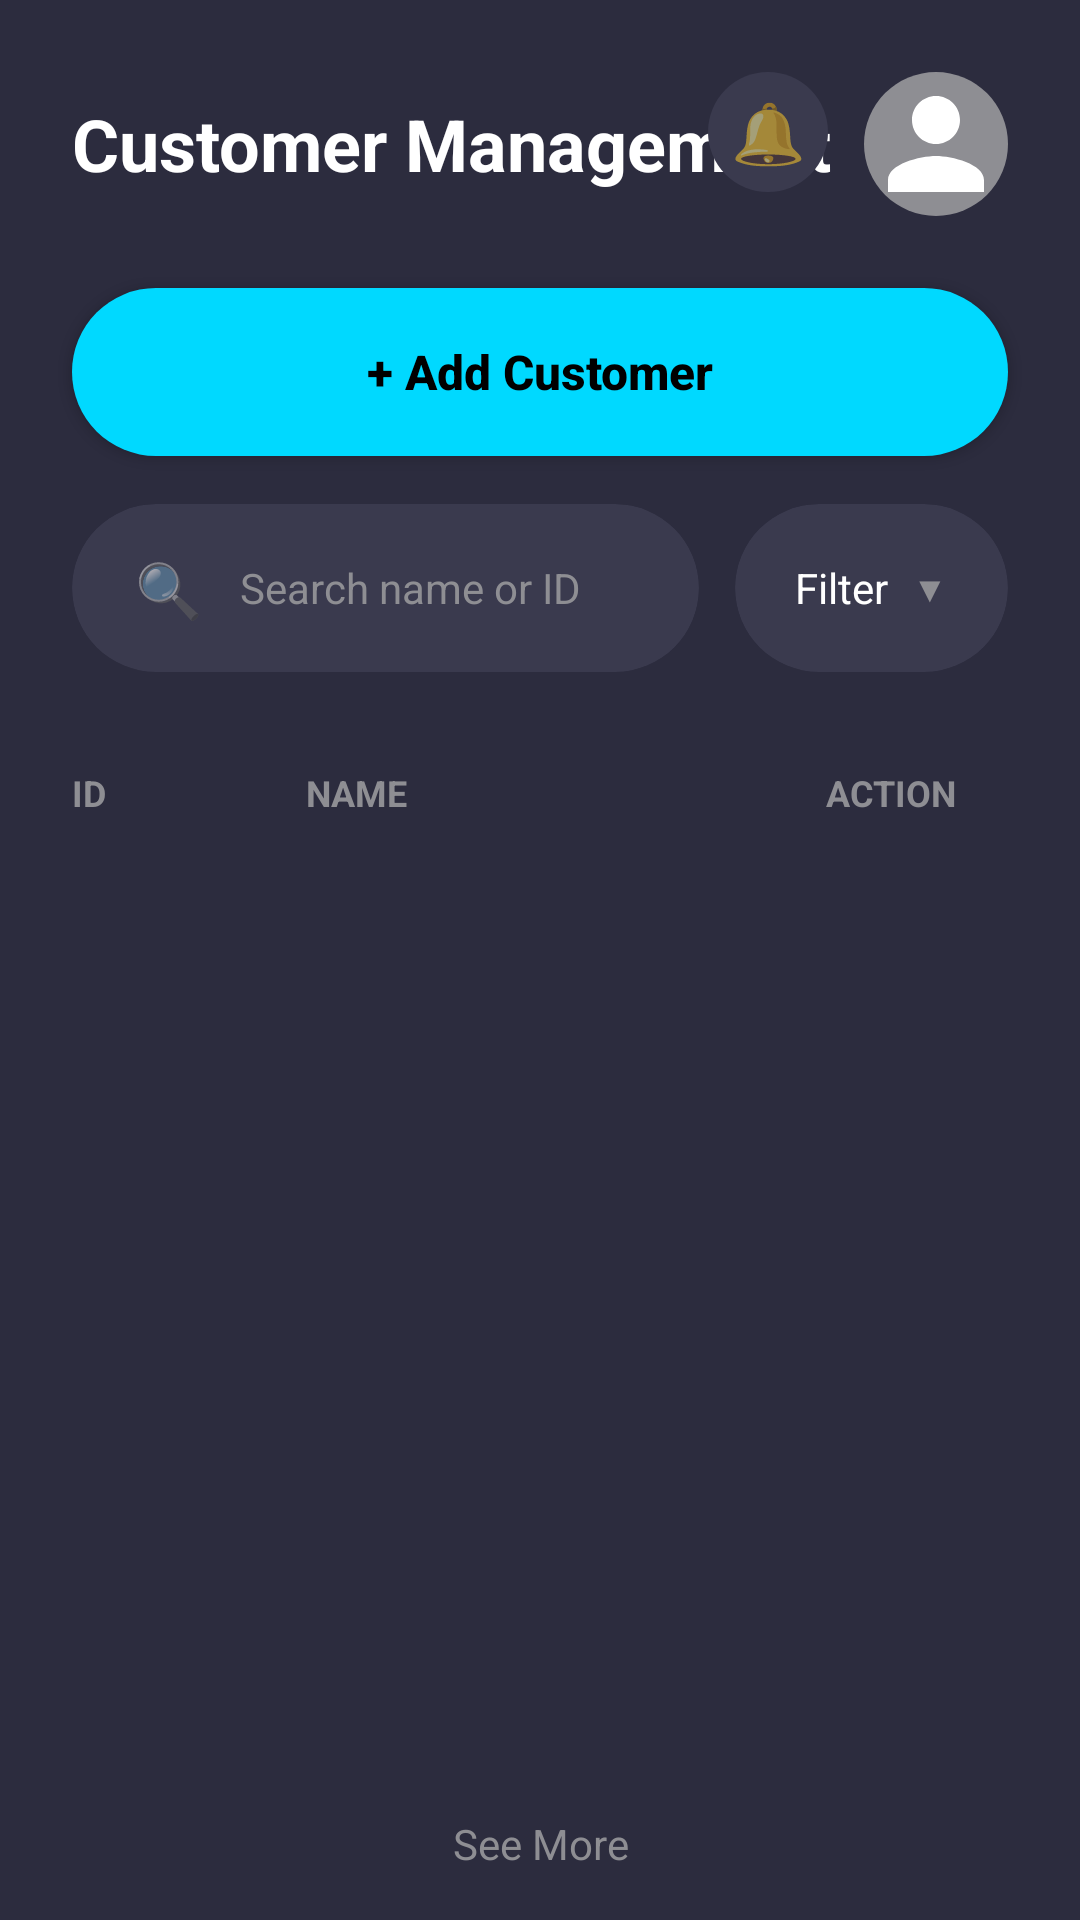

Locate icon controls on the screen. Image size 1080 × 1920, boxes as (x1, y1, x2, y2).
profile: (864, 72, 1008, 216)
